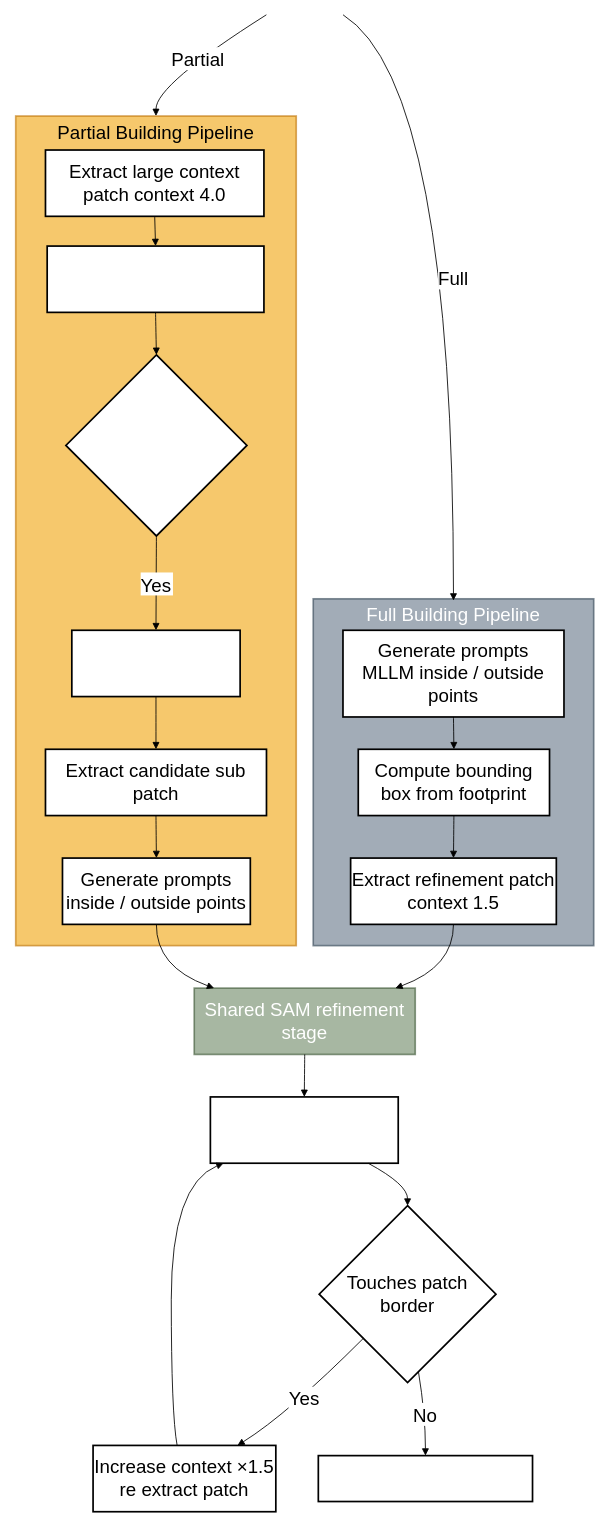
The diagram is 609 pixels wide and 1527 high, and some of its shapes have lost their labels. Here are the shapes that lost their labels. From the top down, the centre of each, then its label:
At pixel 155 279: "Run SAM concept detection text prompt house".
At pixel 156 445: "Candidate roofs found".
At pixel 156 663: "Select candidate centroid or nearest".
At pixel 304 1130: "Run SAM segmentation points + bounding box".
At pixel 425 1478: "Accept segmentation mask".
